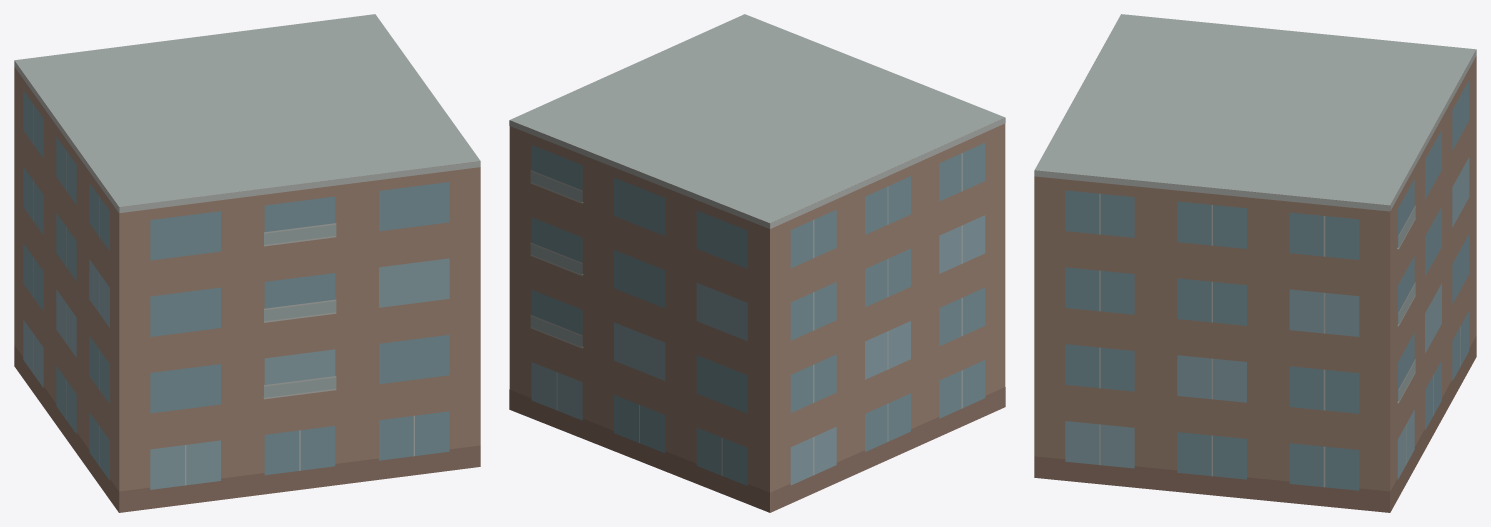
Rendered from residential-a228d04c-cbdb-46c6-bcb1-87f921032725.glb.
3 views of the same model, side by side, from view 1: azimuth 30°, elevation 25°; view 2: azimuth 150°, elevation 25°; view 3: azimuth 270°, elevation 25° (orthographic). The views are drawn at different scales.
Parts seen in each view (by area): view 1: residential-a228d04c-cbdb-46c6-bcb1-87f921032725.tmp; view 2: residential-a228d04c-cbdb-46c6-bcb1-87f921032725.tmp; view 3: residential-a228d04c-cbdb-46c6-bcb1-87f921032725.tmp.
Part boxes in pixels (x1=…): residential-a228d04c-cbdb-46c6-bcb1-87f921032725.tmp: x1=14, y1=14, x2=480, y2=512; residential-a228d04c-cbdb-46c6-bcb1-87f921032725.tmp: x1=509, y1=14, x2=1005, y2=512; residential-a228d04c-cbdb-46c6-bcb1-87f921032725.tmp: x1=1034, y1=14, x2=1476, y2=512.
Bounding box in the file's own units: 16.29 × 12.2 × 15.91.
